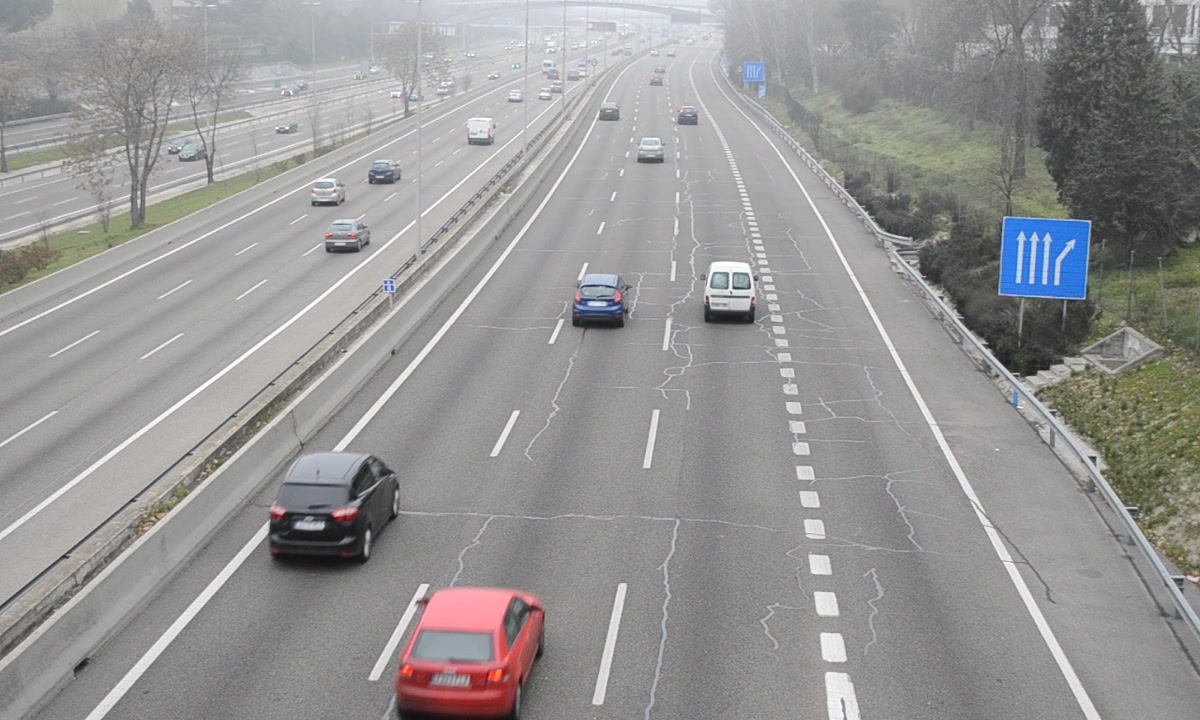car: (394, 588, 545, 720), (266, 453, 399, 561), (573, 273, 629, 327), (637, 137, 664, 164), (676, 105, 699, 127), (598, 100, 621, 122)
van: (704, 261, 755, 324)
